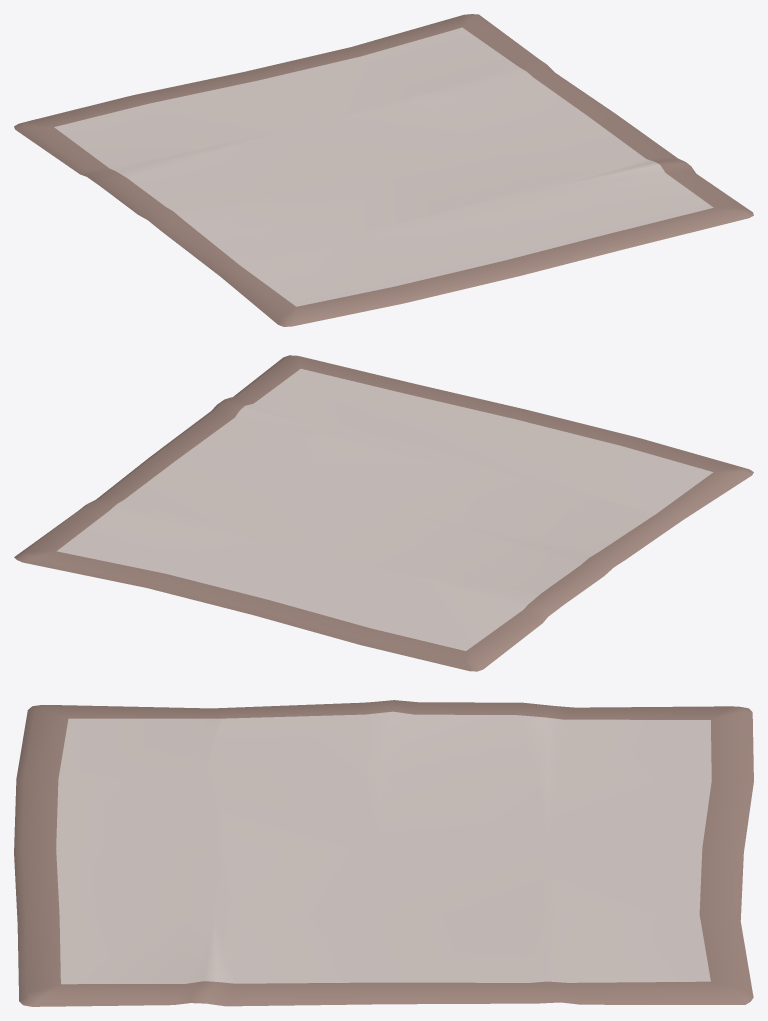
File: carpet_016.fbx
3 views of the same model, one above another, from view 1: azimuth 30°, elevation 25°; view 2: azimuth 150°, elevation 25°; view 3: azimuth 270°, elevation 25° (orthographic). The views are drawn at different scales.
Parts seen in each view (by area): view 1: carpet_016; view 2: carpet_016; view 3: carpet_016.
Part boxes in pixels (<box>): carpet_016: <box>14,14,753,326</box>; carpet_016: <box>14,355,753,671</box>; carpet_016: <box>14,700,753,1006</box>.
Size of the model in its own units: 315 by 326 by 5.65.
